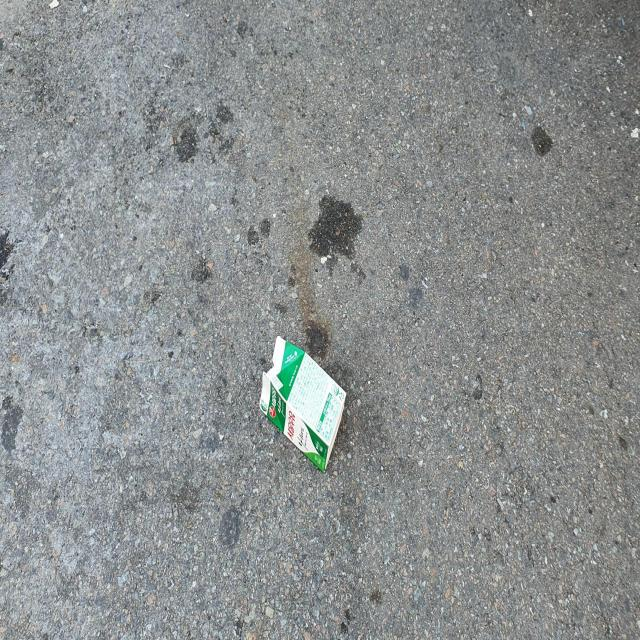paperpack: (260, 335, 346, 471)
